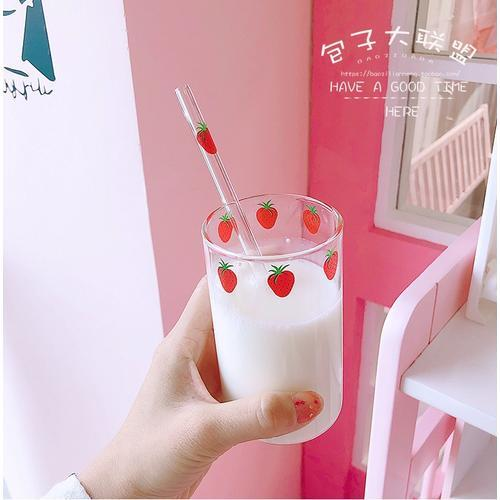produk_susu: (213, 220, 343, 390)
